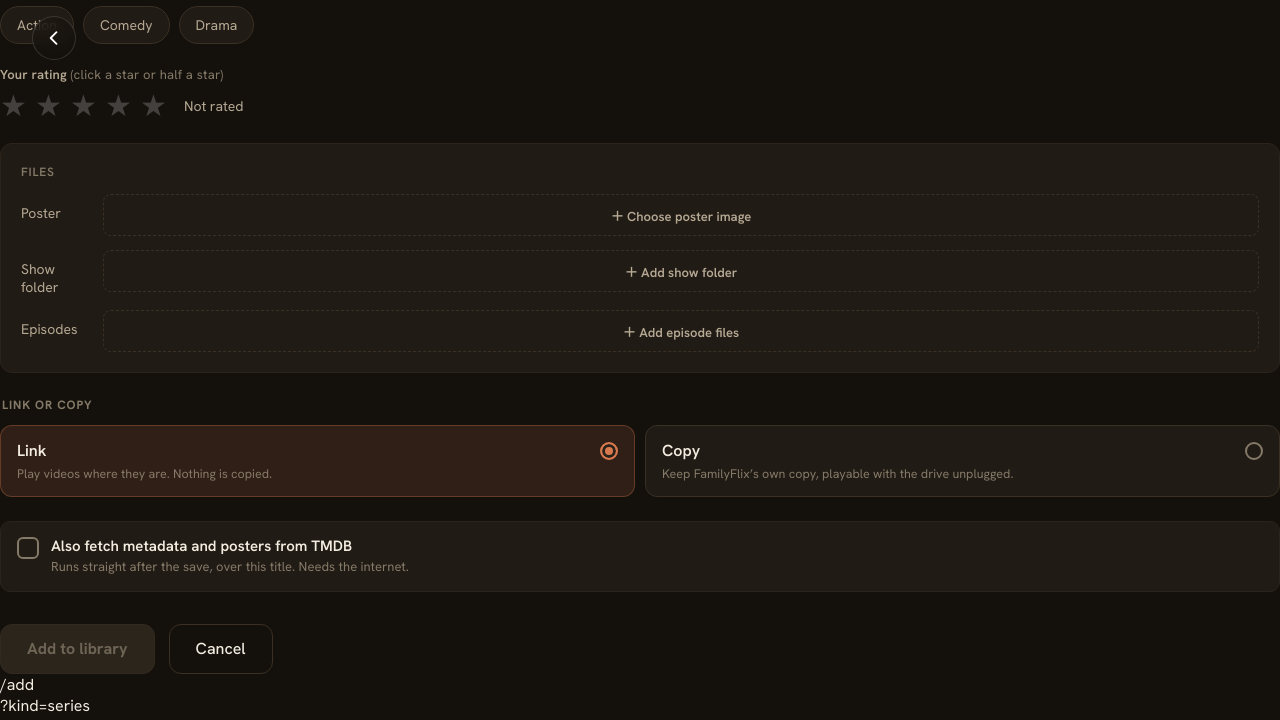
it: MovieForm — the Show folder pick’s edges › Unplaced videos › are refused by the existing gate when two claim one number
(page scrolled)
Click the button "＋ Add show folder". click: point(681, 271)
box: [103,250,1259,292]
(page scrolled)
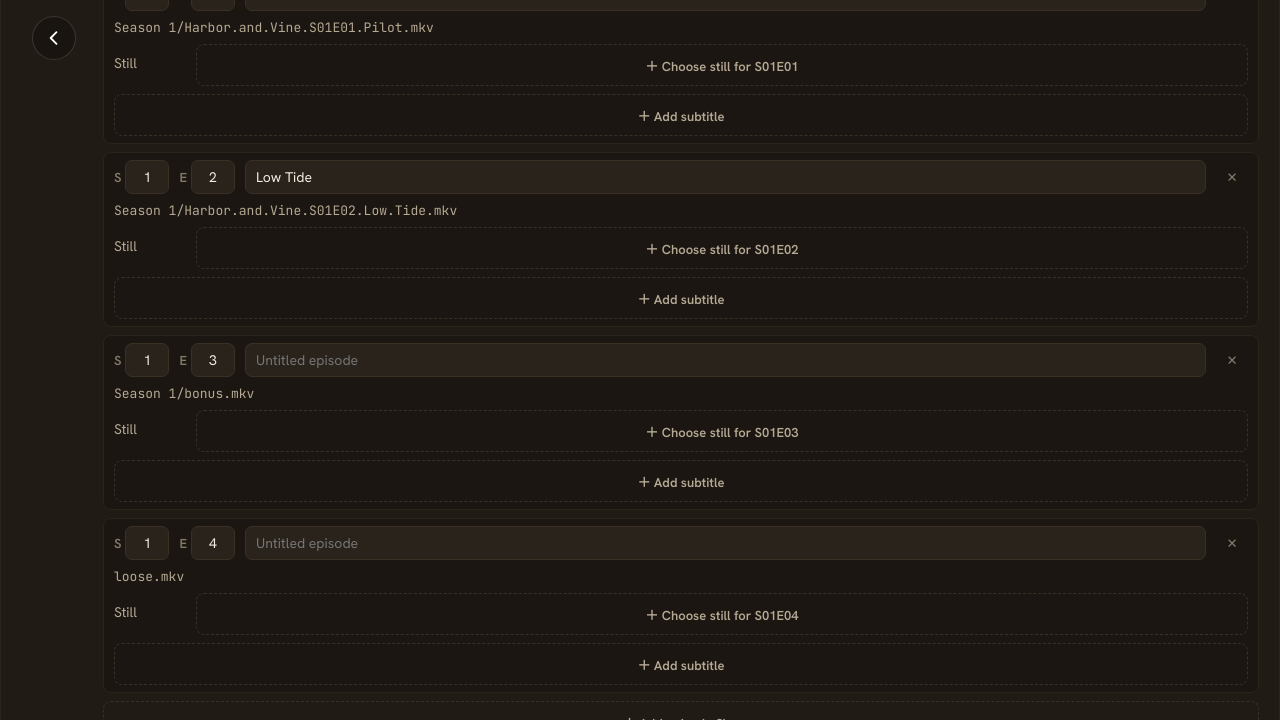
Replace the text in the field named "Episode" with "1". click: point(213, 360)
box: [191,343,235,377]
(page scrolled)
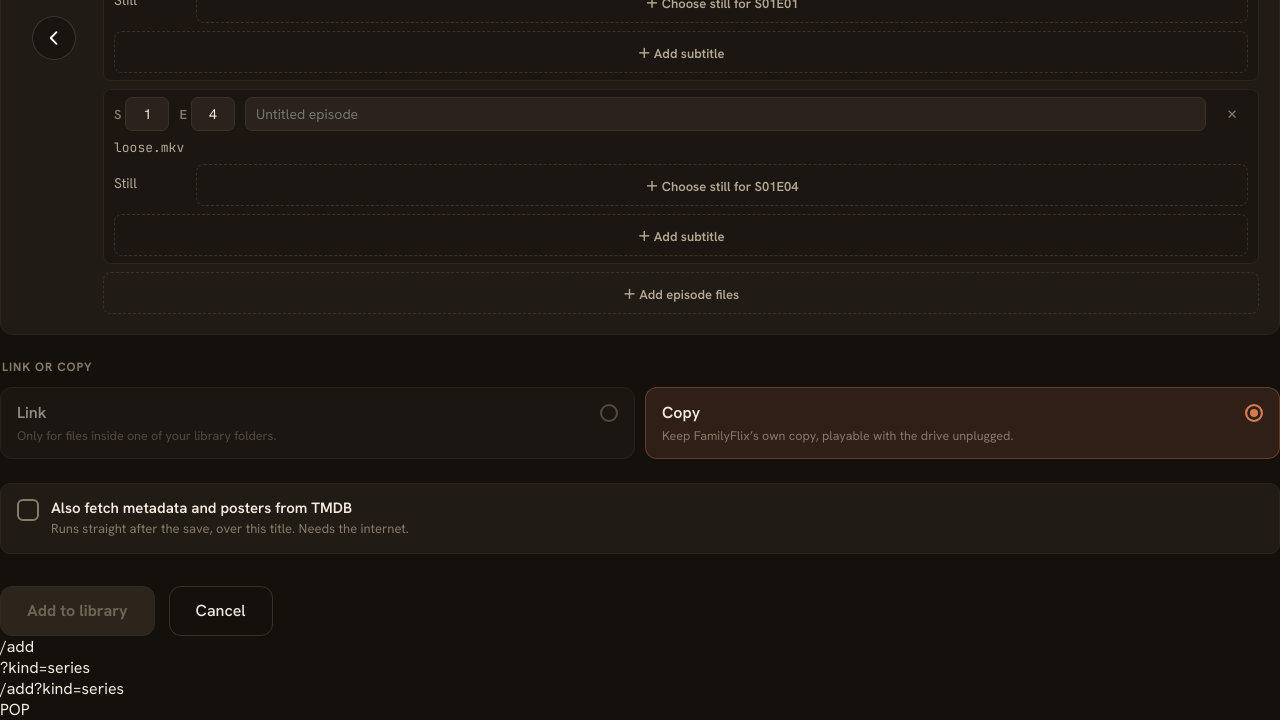
Expected: the button "Add to library" is disabled, [0,586,155,636]
